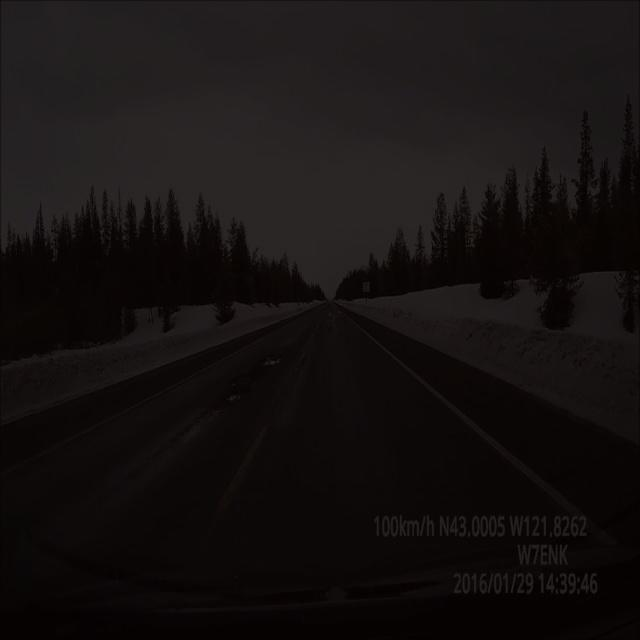Pothole: (225, 374, 256, 406), (254, 350, 282, 373)
